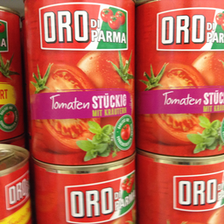tomato_sauce: (23, 1, 136, 166), (135, 1, 224, 157)
